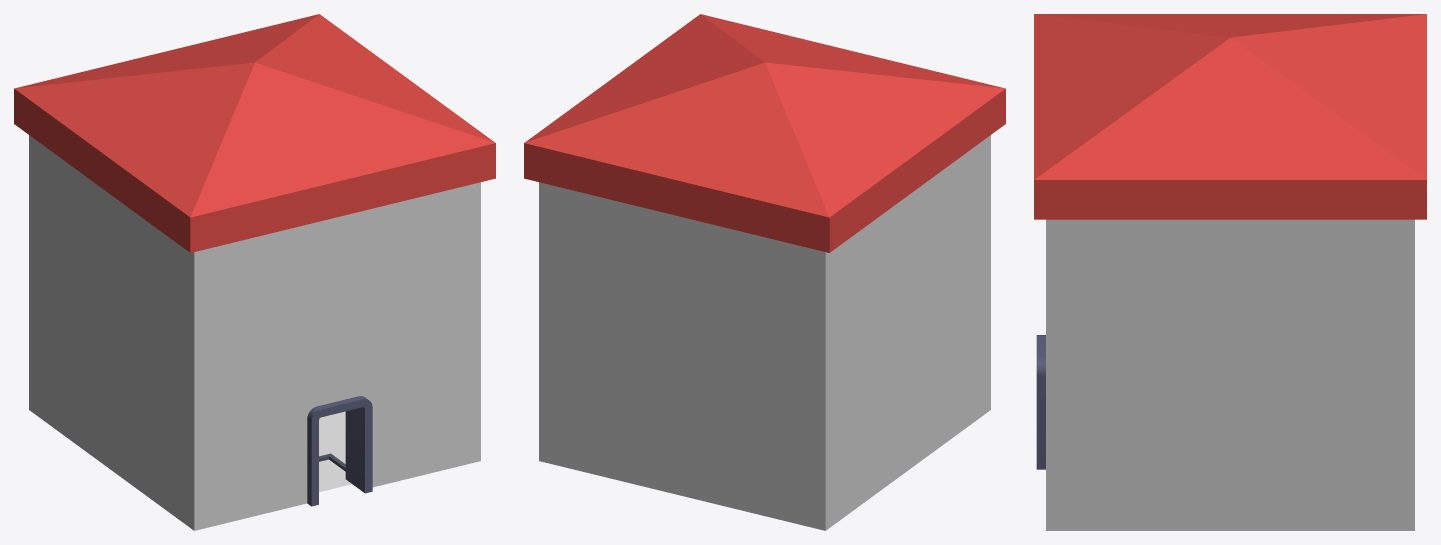
File: PlayerHuose.fbx
3 views of the same model, side by side, from view 1: azimuth 30°, elevation 25°; view 2: azimuth 150°, elevation 25°; view 3: azimuth 270°, elevation 25° (orthographic). The views are drawn at different scales.
Parts seen in each view (by area): view 1: Huose, Huose.001, doorFramle; view 2: Huose, Huose.001; view 3: Huose, Huose.001, doorFramle.
Boxes of the visible parts, x1,y1,x2,y2 form: Huose: [29, 135, 480, 530]; Huose.001: [14, 14, 495, 252]; doorFramle: [307, 396, 372, 506]; Huose: [539, 135, 990, 530]; Huose.001: [524, 14, 1005, 252]; Huose: [1046, 219, 1414, 530]; Huose.001: [1034, 14, 1426, 219]; doorFramle: [1036, 335, 1045, 469].
Size of the model in its own units: 1800 by 2100 by 1800.
